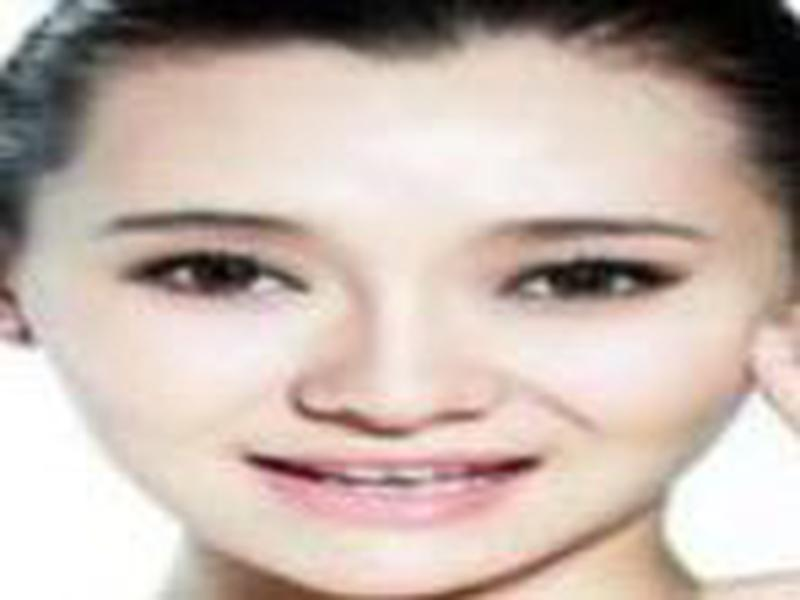without_mask: (29, 53, 755, 599)
